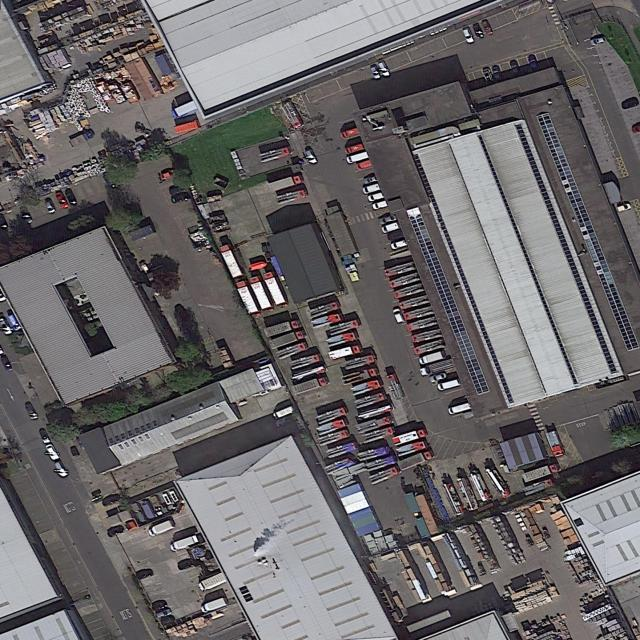large-vehicle: (262, 270, 290, 310), (218, 242, 247, 280), (249, 275, 276, 315), (484, 464, 514, 500), (235, 279, 262, 318), (354, 414, 395, 436), (441, 481, 466, 517), (262, 318, 302, 340), (469, 469, 494, 504), (456, 476, 480, 512), (265, 173, 306, 194), (291, 375, 330, 397), (355, 402, 395, 423), (267, 329, 306, 350), (289, 363, 328, 384), (397, 450, 434, 472), (419, 357, 457, 378), (341, 367, 379, 387), (274, 341, 310, 362), (288, 351, 324, 372), (306, 299, 342, 320), (323, 455, 357, 477), (281, 99, 305, 130), (412, 336, 448, 356), (315, 405, 349, 426), (366, 466, 400, 487), (391, 428, 428, 447), (197, 572, 230, 593), (383, 260, 419, 279), (309, 311, 345, 330), (360, 426, 396, 445), (315, 417, 349, 437), (325, 440, 359, 460), (349, 379, 384, 398), (353, 391, 388, 410), (394, 440, 429, 459), (355, 445, 391, 463), (398, 294, 432, 313), (316, 429, 350, 448), (545, 430, 567, 459), (258, 145, 293, 163), (385, 373, 406, 403), (327, 344, 364, 361), (389, 271, 422, 290), (393, 282, 426, 301), (328, 318, 361, 337), (325, 330, 358, 349), (168, 534, 201, 553), (342, 354, 376, 372), (170, 100, 199, 121), (407, 314, 439, 333), (365, 454, 397, 473), (403, 304, 436, 322), (411, 327, 444, 345), (275, 188, 308, 206), (146, 519, 177, 538), (199, 596, 230, 615), (68, 130, 96, 149), (418, 349, 447, 367), (273, 404, 298, 421), (341, 126, 363, 141)
small-vehicle: (436, 378, 462, 392), (447, 402, 472, 416), (169, 191, 192, 205), (346, 151, 370, 164), (44, 443, 60, 462), (101, 494, 122, 508), (343, 143, 365, 156), (19, 206, 34, 225), (54, 460, 69, 478), (24, 403, 39, 421), (0, 354, 14, 373), (509, 59, 523, 78), (158, 167, 178, 180), (55, 192, 70, 209), (361, 183, 382, 195), (461, 26, 475, 44), (64, 190, 79, 206), (428, 372, 448, 384), (620, 99, 640, 111), (304, 148, 318, 165), (527, 55, 540, 73), (491, 65, 504, 83), (378, 214, 397, 226), (381, 222, 400, 234), (135, 568, 154, 580), (107, 526, 126, 538), (377, 61, 391, 77), (392, 308, 406, 324), (482, 67, 495, 84), (169, 184, 189, 195), (390, 239, 408, 251), (150, 600, 168, 612), (472, 24, 485, 40), (481, 20, 494, 36), (355, 160, 373, 171), (367, 192, 385, 203), (371, 200, 389, 211), (177, 560, 195, 571), (370, 64, 382, 80), (588, 36, 607, 46), (39, 430, 52, 444), (44, 199, 56, 214), (160, 615, 176, 626), (616, 202, 632, 213), (156, 609, 173, 619), (362, 175, 378, 185)
